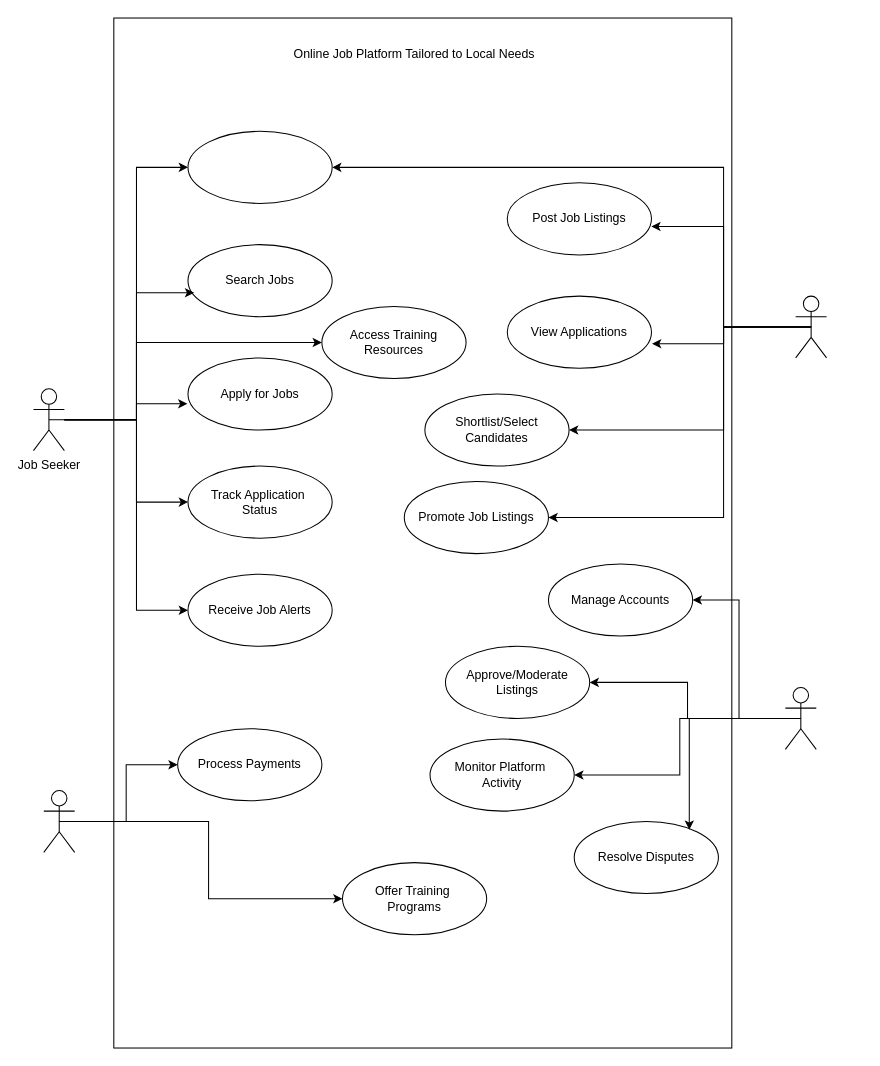
The diagram is 880 pixels wide and 1066 high, and some of its shapes have lost their labels. The shapes that lost their labels are listed below. From the top down, each one's centre as x and y in pixels, then its label:
pixel 259 166: Registration/ LogIn
pixel 811 326: Employer
pixel 800 717: Platform Administrator
pixel 59 820: Trainer
